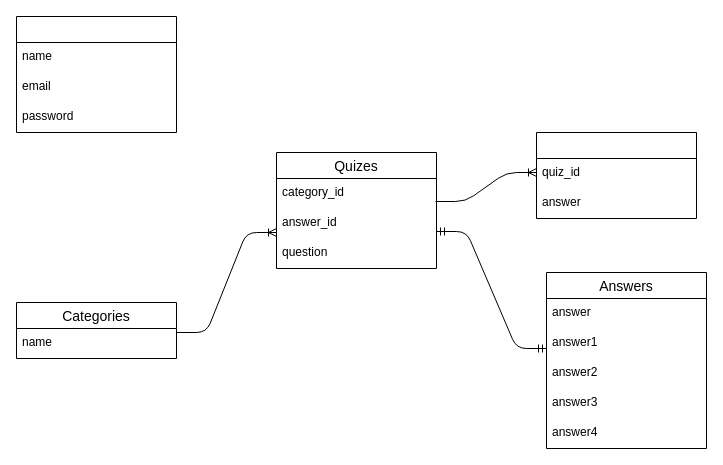
The diagram is 723 pixels wide and 465 high, and some of its shapes have lost their labels. Here are the shapes that lost their labels. From the top down, the box of each, then its label:
(16, 16, 176, 132): User
(536, 132, 696, 218): Answer_histories
